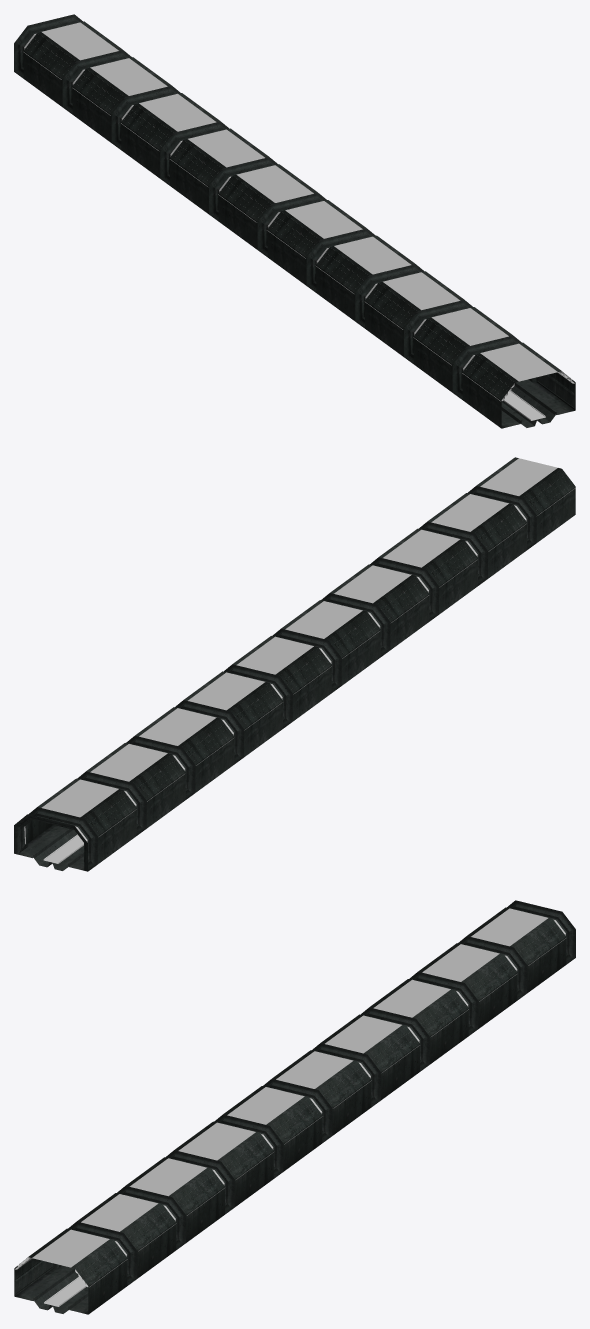
Rendered from tunnel_long.fbx.
The picture shows the model from 3 angles, top to bottom: view 1: azimuth 30°, elevation 25°; view 2: azimuth 150°, elevation 25°; view 3: azimuth 330°, elevation 25°; orthographic projection.
Visible parts, largest first — view 1: tunnel5; view 2: tunnel5; view 3: tunnel5.
Boxes of the visible parts, left/top/right/bottom form: tunnel5: left=14, top=14, right=575, bottom=428; tunnel5: left=14, top=457, right=575, bottom=871; tunnel5: left=14, top=900, right=575, bottom=1314.
Size of the model in its own units: 5582 by 3414 by 62264.
